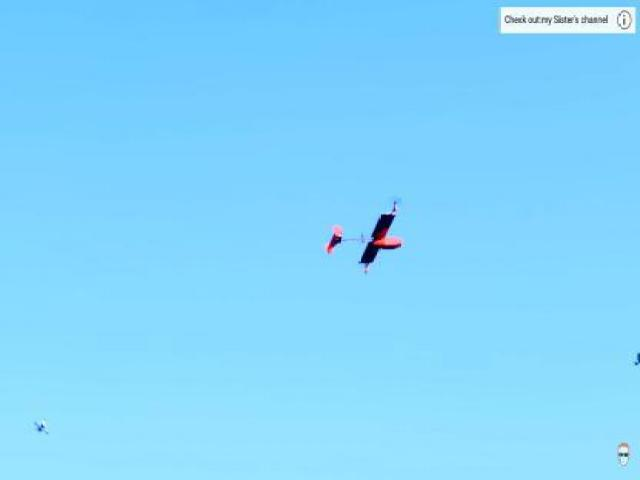uav: (322, 190, 410, 277)
